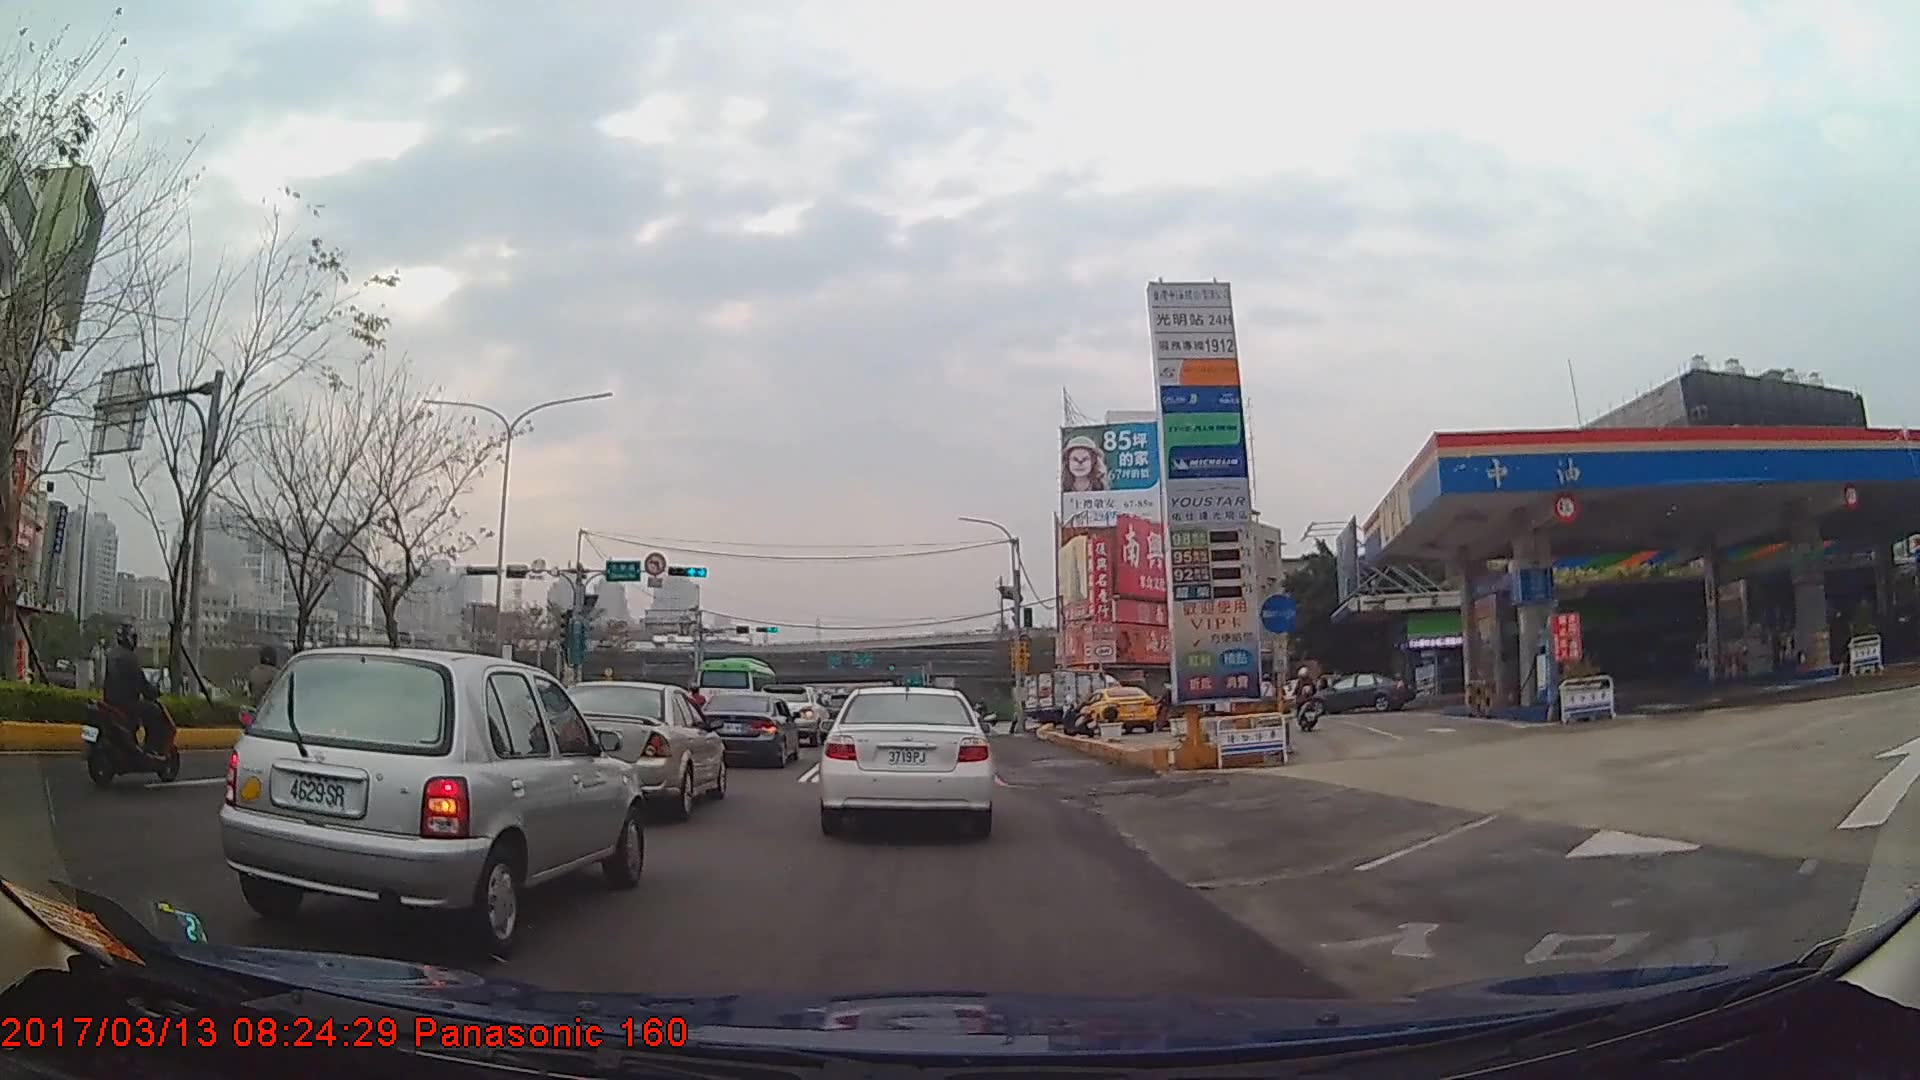rider: (81, 620, 175, 779), (1291, 668, 1322, 730), (1157, 683, 1187, 734), (1259, 674, 1279, 724)
vehicle: (215, 642, 648, 948), (821, 683, 993, 837), (548, 678, 727, 818), (694, 688, 803, 768), (1023, 667, 1127, 728), (694, 654, 778, 719), (756, 682, 831, 744), (1307, 673, 1411, 712), (1083, 684, 1157, 733)
